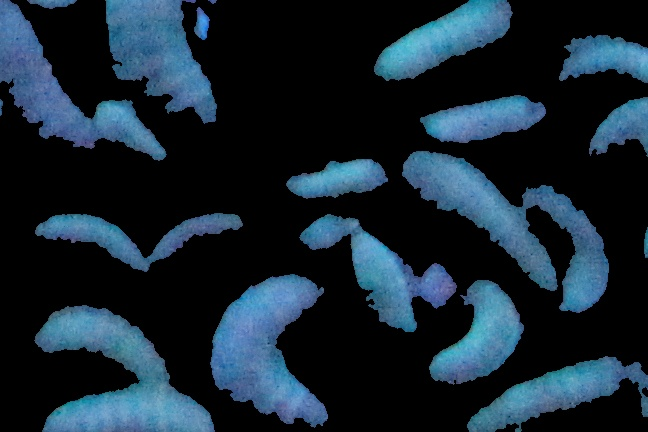larvae: (393, 146, 561, 303), (85, 1, 238, 169), (1, 1, 102, 182), (215, 273, 332, 424), (362, 1, 505, 92), (26, 300, 175, 382), (31, 196, 162, 289), (463, 356, 632, 427), (531, 180, 613, 313), (434, 281, 526, 384), (141, 201, 249, 283), (79, 103, 184, 185), (408, 79, 548, 139), (43, 386, 212, 432), (351, 225, 415, 332), (271, 151, 393, 203), (564, 27, 648, 86)
